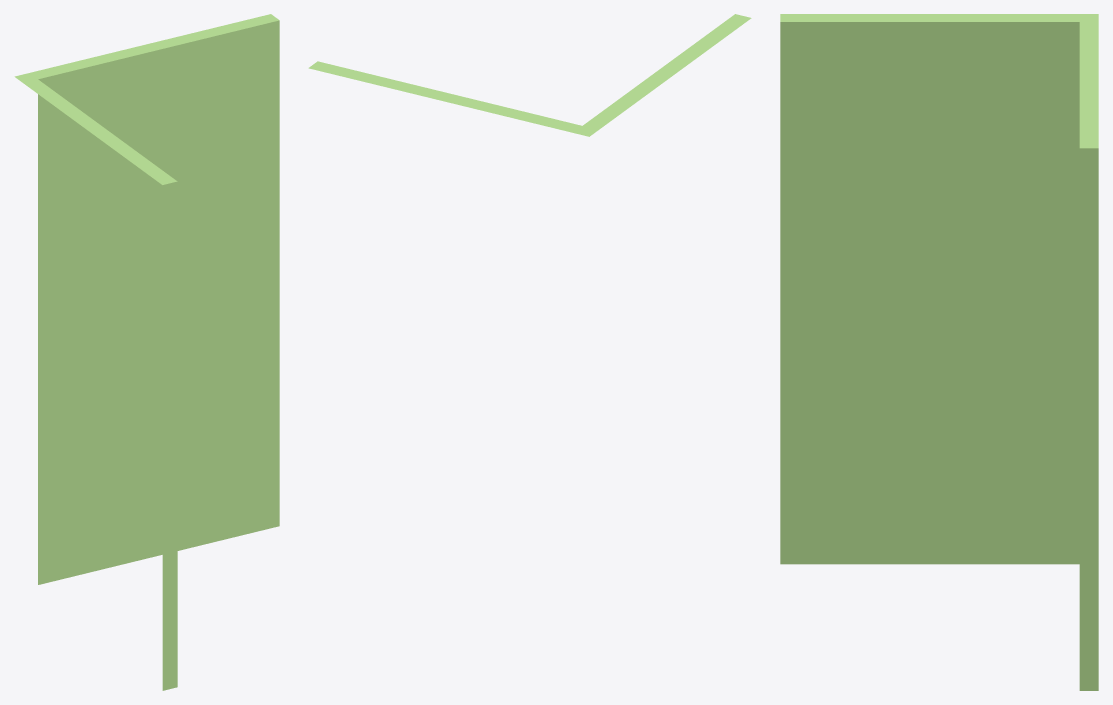
File: SM_WallCorner.glb
The picture shows the model from 3 angles, left to right: view 1: azimuth 30°, elevation 25°; view 2: azimuth 150°, elevation 25°; view 3: azimuth 270°, elevation 25°; orthographic projection. The views are drawn at different scales.
Parts seen in each view (by area): view 1: SM_WallCorner; view 2: SM_WallCorner; view 3: SM_WallCorner.
Boxes of the visible parts, left/top/right/bottom form: SM_WallCorner: left=14, top=14, right=279, bottom=690; SM_WallCorner: left=308, top=14, right=751, bottom=136; SM_WallCorner: left=780, top=14, right=1098, bottom=690.
Size of the model in its own units: 1.06 by 2 by 1.06.
